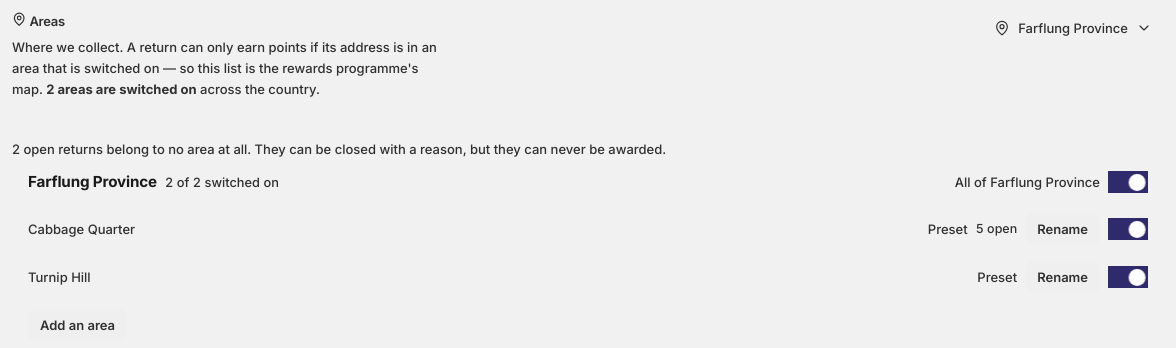
Test: the areas an owner manages › carries each state’s served tally in the picker, so the map is in one place
The width and height of the screenshot is (1176, 348).
Check: the text "Cabbage Quarter" is shown, box [28,221,135,237]
Click the button with aria-label "State:".
click(1073, 28)  # box [982,12,1164,44]
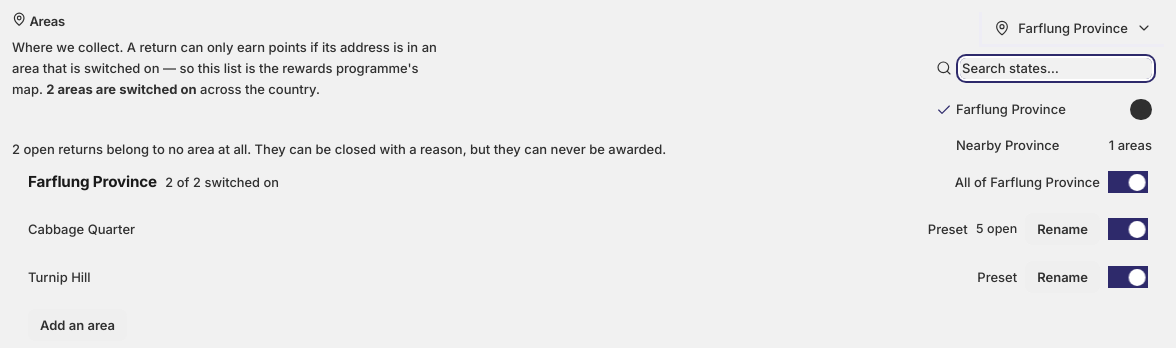
Check: the text "2" is shown, box [1130,99,1152,120]
Check: the text "1 areas" is shown, box [1109,136,1152,155]
